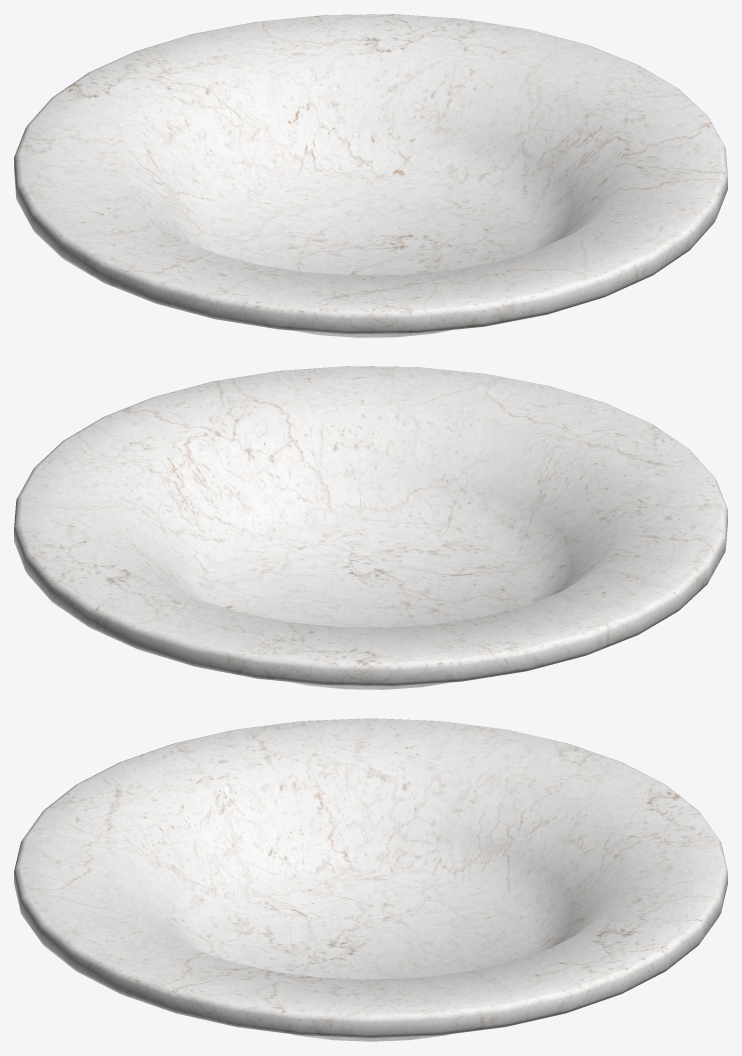
The model's file is Plato3.fbx.
The picture shows the model from 3 angles, top to bottom: view 1: azimuth 30°, elevation 25°; view 2: azimuth 150°, elevation 25°; view 3: azimuth 270°, elevation 25°; orthographic projection.
Parts seen in each view (by area): view 1: Cylinder.001; view 2: Cylinder.001; view 3: Cylinder.001.
Part boxes in pixels (x1=…): Cylinder.001: x1=14, y1=14, x2=727, y2=337; Cylinder.001: x1=14, y1=366, x2=727, y2=689; Cylinder.001: x1=14, y1=718, x2=727, y2=1041.
Size of the model in its own units: 181 by 28.34 by 181.
1 material, 1 textured.
